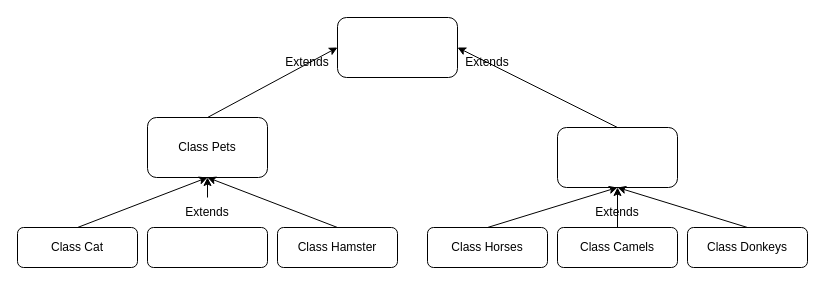
Image size: 825x293. Some labels were removed from this diagram. Here are the shapes that lost their labels. From the top down, the centre of each, then its label:
At (397,47): "Class Animals".
At (617,157): "Class PackAnimals".
At (207,247): "Class Dog".
